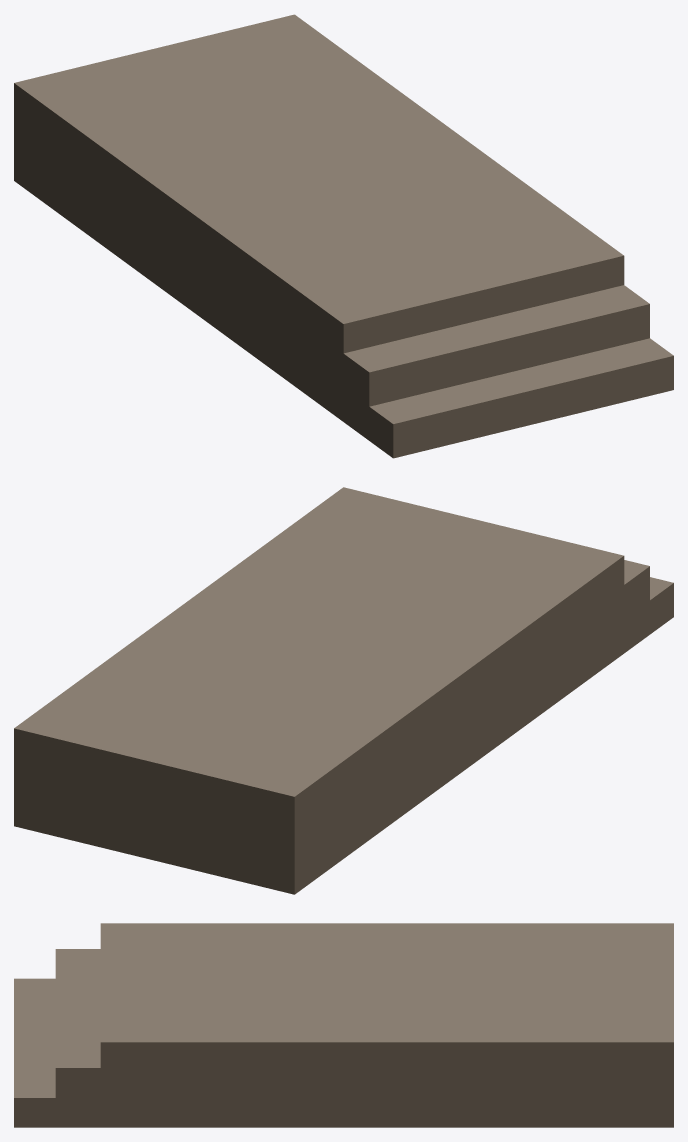
File: Stairs_A3.fbx
The picture shows the model from 3 angles, top to bottom: view 1: azimuth 30°, elevation 25°; view 2: azimuth 150°, elevation 25°; view 3: azimuth 270°, elevation 25°; orthographic projection. The views are drawn at different scales.
Parts seen in each view (by area): view 1: Stairs_A3; view 2: Stairs_A3; view 3: Stairs_A3.
Part boxes in pixels (bbox=[...]): Stairs_A3: bbox=[14, 14, 673, 458]; Stairs_A3: bbox=[14, 487, 673, 894]; Stairs_A3: bbox=[14, 923, 673, 1127].
Size of the model in its own units: 300 by 100 by 702.
1 material, 1 textured.
